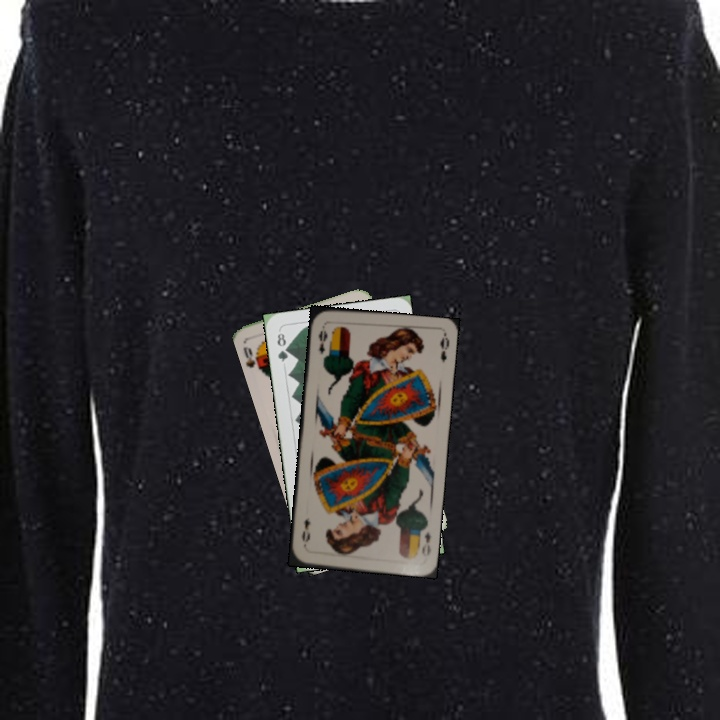EO: (314, 326, 330, 357), (418, 528, 433, 559)
G8: (273, 329, 291, 364)
SO: (239, 343, 267, 376)
